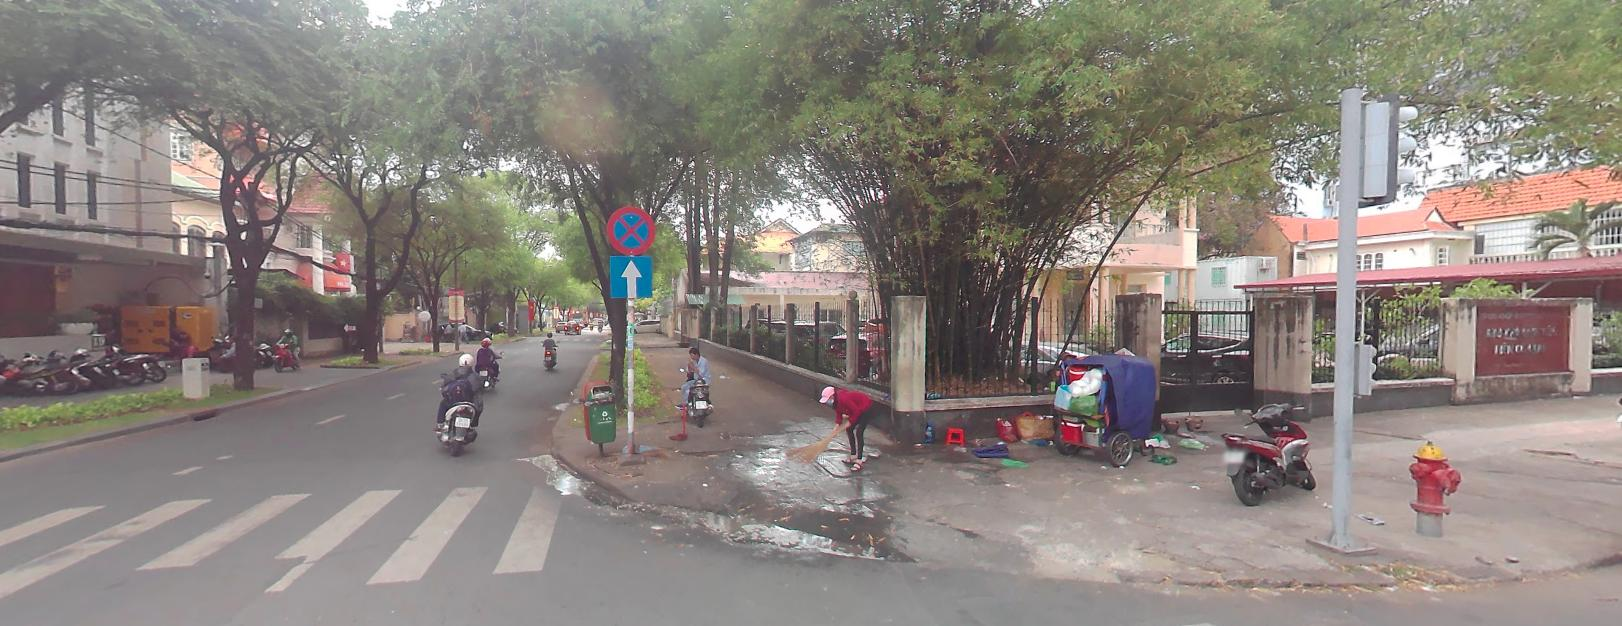Cam dung va do: (606, 204, 654, 254)
